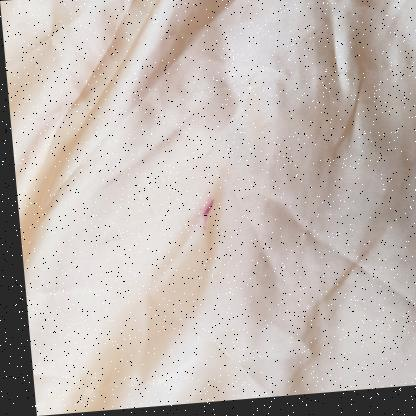spot: (193, 192, 214, 240)
